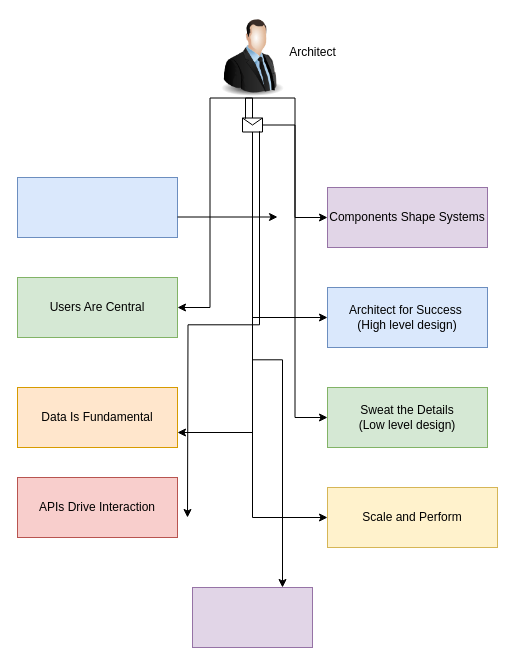
Image size: 515x665. Some labels were removed from this diagram. The shapes that lost their labels are listed below. From the top down, each one's box as (x1, y1, x2, y2) in pixels, then its label:
(16, 176, 178, 238): Requirements Matter
(192, 586, 312, 648): Handle Errors Gracefully
